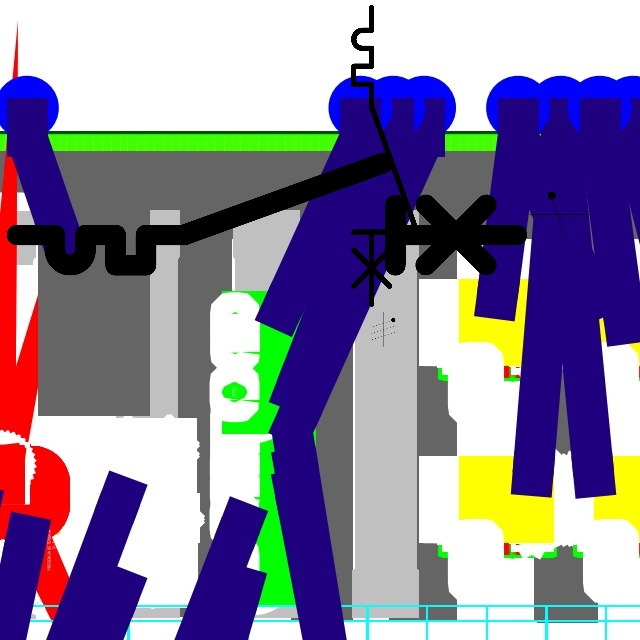interruptor_termomagnetico: (4, 150, 529, 278), (346, 0, 422, 312)
